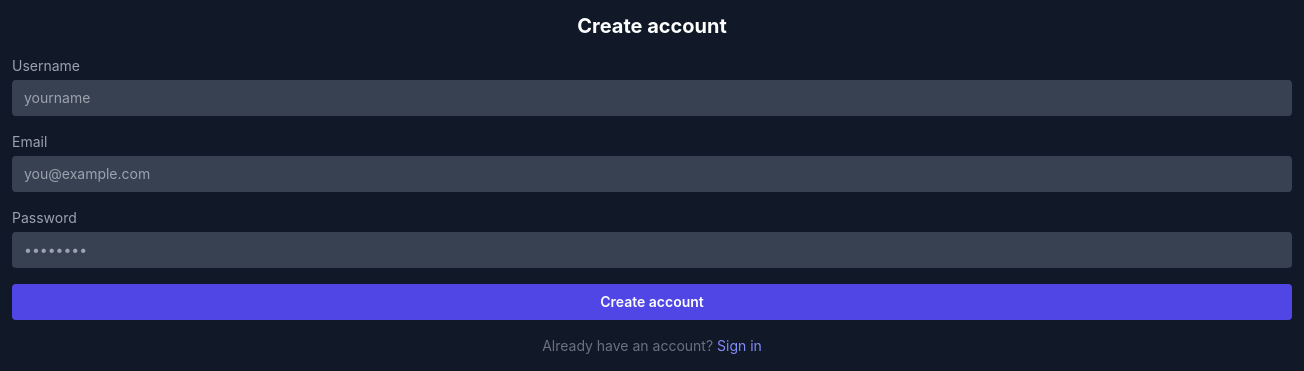
Scenario: RegisterForm › shows success message after registration
The image size is (1304, 371).
Type "testuser" into the field with test id "username-input" at [652, 98], box [12,80,1292,116]
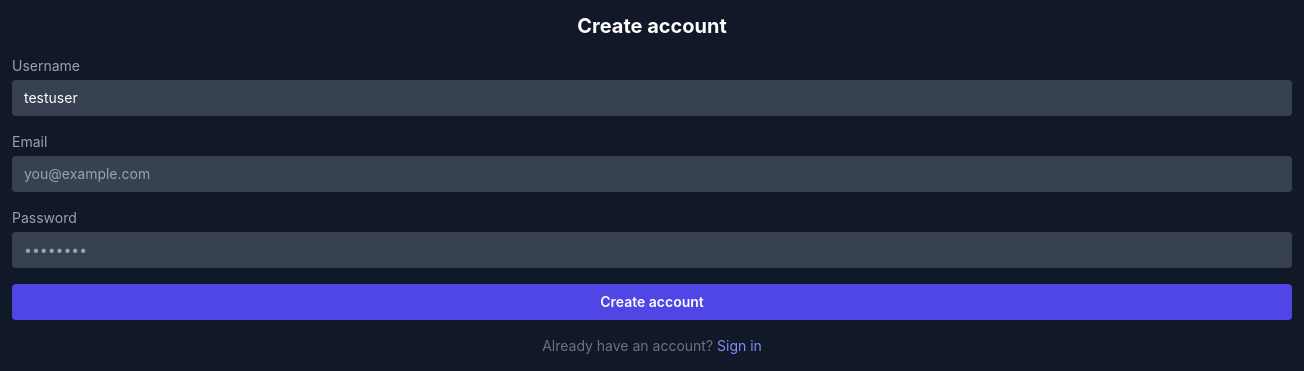
Type "test@test.com" into the field with test id "email-input" at [652, 174], box [12,156,1292,192]
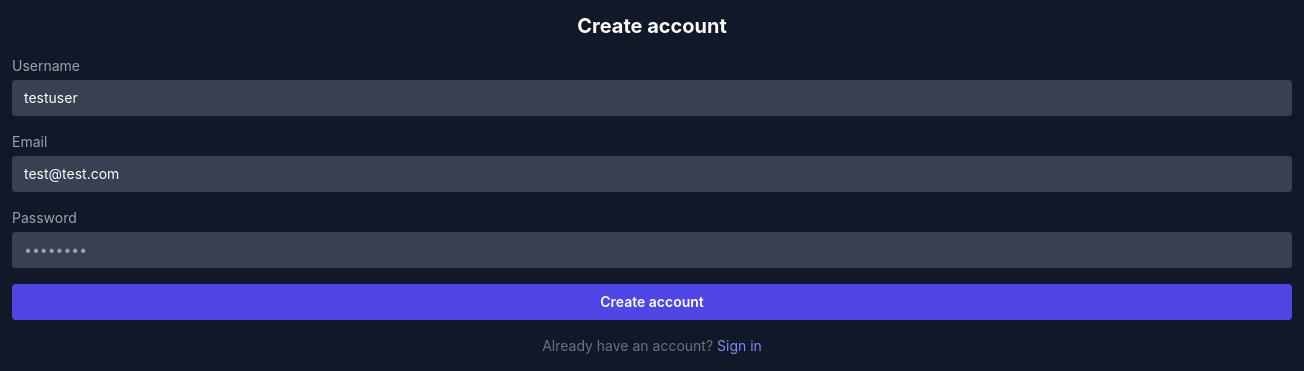
Type "password123" into the password field with test id "password-input" at [652, 250], box [12,232,1292,268]
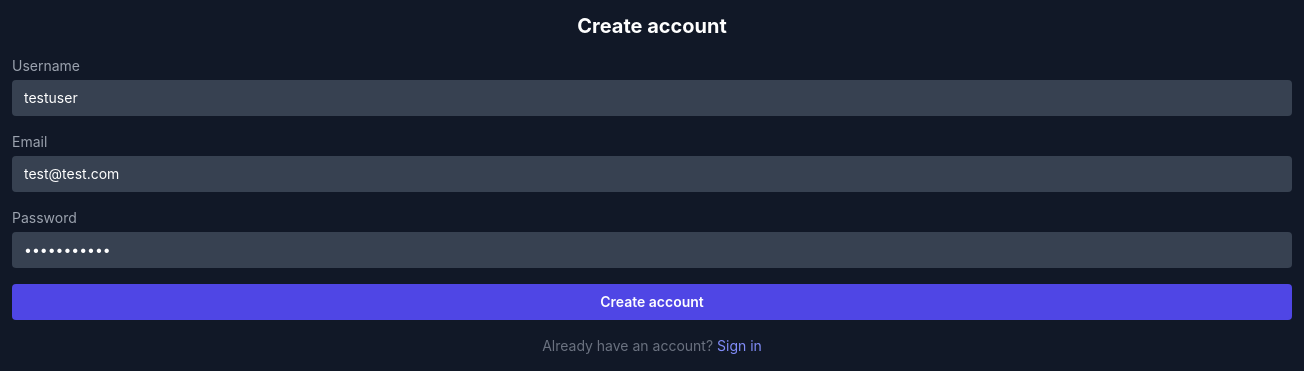
Click the button with test id "submit-btn" at [652, 302], box [12,284,1292,320]
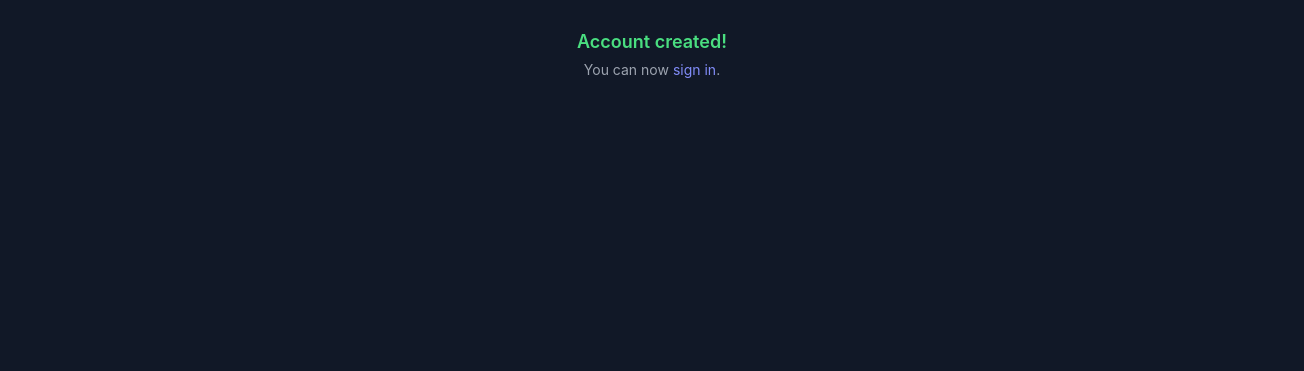
expect the text "Account created!" is shown: met, box [577,31,727,52]
